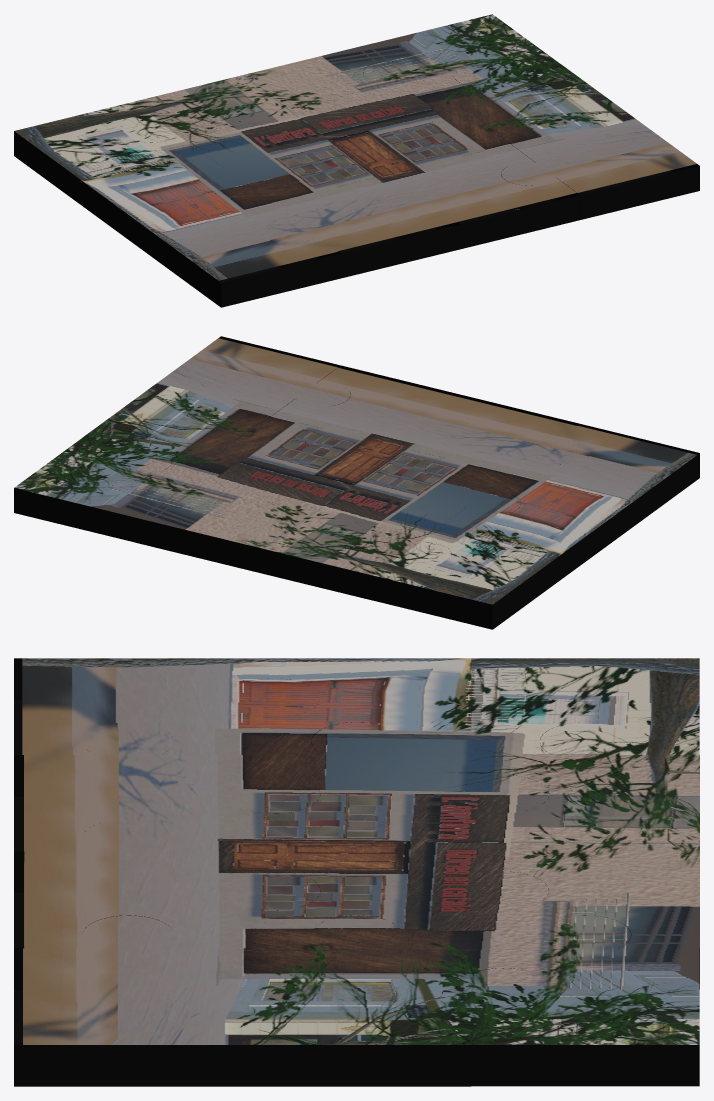
File: Puuzzle PAE_Final(4x3)_2_Low.fbx
3 views of the same model, one above another, from view 1: azimuth 30°, elevation 25°; view 2: azimuth 150°, elevation 25°; view 3: azimuth 270°, elevation 25° (orthographic). The views are drawn at different scales.
Parts seen in each view (by area): view 1: Puzle 3_Pieza_12, Puzle 3_Pieza_9, Puzle 3_Pieza_11, Puzle 3_Pieza_10, Puzle 3_Pieza_8, Puzle 3_Pieza_5, Puzle 3_Pieza_6, Puzle 3_Pieza_7, Puzle 3_Pieza_4, Puzle 3_Pieza_1, Puzle 3_Pieza_3, Puzle 3_Pieza_2; view 2: Puzle 3_Pieza_4, Puzle 3_Pieza_1, Puzle 3_Pieza_3, Puzle 3_Pieza_2, Puzle 3_Pieza_12, Puzle 3_Pieza_9, Puzle 3_Pieza_10, Puzle 3_Pieza_11, Puzle 3_Pieza_8, Puzle 3_Pieza_5, Puzle 3_Pieza_6, Puzle 3_Pieza_7; view 3: Puzle 3_Pieza_12, Puzle 3_Pieza_8, Puzle 3_Pieza_4, Puzle 3_Pieza_11, Puzle 3_Pieza_10, Puzle 3_Pieza_9, Puzle 3_Pieza_7, Puzle 3_Pieza_6, Puzle 3_Pieza_3, Puzle 3_Pieza_5, Puzle 3_Pieza_2, Puzle 3_Pieza_1.
Part boxes in pixels (<box>): Puzle 3_Pieza_12: <box>501,114,699,219</box>; Puzle 3_Pieza_9: <box>152,201,340,307</box>; Puzle 3_Pieza_11: <box>381,143,579,248</box>; Puzle 3_Pieza_10: <box>262,172,460,278</box>; Puzle 3_Pieza_8: <box>432,63,630,148</box>; Puzle 3_Pieza_5: <box>83,151,271,256</box>; Puzle 3_Pieza_6: <box>193,121,390,202</box>; Puzle 3_Pieza_7: <box>312,92,510,173</box>; Puzle 3_Pieza_4: <box>363,14,561,93</box>; Puzle 3_Pieza_1: <box>14,102,202,206</box>; Puzle 3_Pieza_3: <box>243,43,441,122</box>; Puzle 3_Pieza_2: <box>123,72,321,152</box>; Puzle 3_Pieza_4: <box>14,437,212,541</box>; Puzle 3_Pieza_1: <box>373,525,561,629</box>; Puzle 3_Pieza_3: <box>133,466,331,571</box>; Puzle 3_Pieza_2: <box>253,496,451,600</box>; Puzle 3_Pieza_12: <box>152,336,350,422</box>; Puzle 3_Pieza_9: <box>511,424,699,528</box>; Puzle 3_Pieza_10: <box>392,395,589,481</box>; Puzle 3_Pieza_11: <box>272,365,470,451</box>; Puzle 3_Pieza_8: <box>83,387,281,473</box>; Puzle 3_Pieza_5: <box>442,474,630,578</box>; Puzle 3_Pieza_6: <box>322,445,520,531</box>; Puzle 3_Pieza_7: <box>203,416,401,502</box>; Puzle 3_Pieza_12: <box>14,915,320,1086</box>; Puzle 3_Pieza_8: <box>242,915,548,1086</box>; Puzle 3_Pieza_4: <box>471,915,699,1086</box>; Puzle 3_Pieza_11: <box>14,818,320,948</box>; Puzle 3_Pieza_10: <box>14,722,320,851</box>; Puzle 3_Pieza_9: <box>14,658,320,796</box>; Puzle 3_Pieza_7: <box>242,819,549,948</box>; Puzle 3_Pieza_6: <box>242,722,549,886</box>; Puzle 3_Pieza_3: <box>471,818,699,989</box>; Puzle 3_Pieza_5: <box>242,658,548,754</box>; Puzle 3_Pieza_2: <box>471,722,699,884</box>; Puzle 3_Pieza_1: <box>471,658,699,754</box>.
Bounding box in the file's own units: 4002 × 200 × 3001.
1 material, 1 textured.
